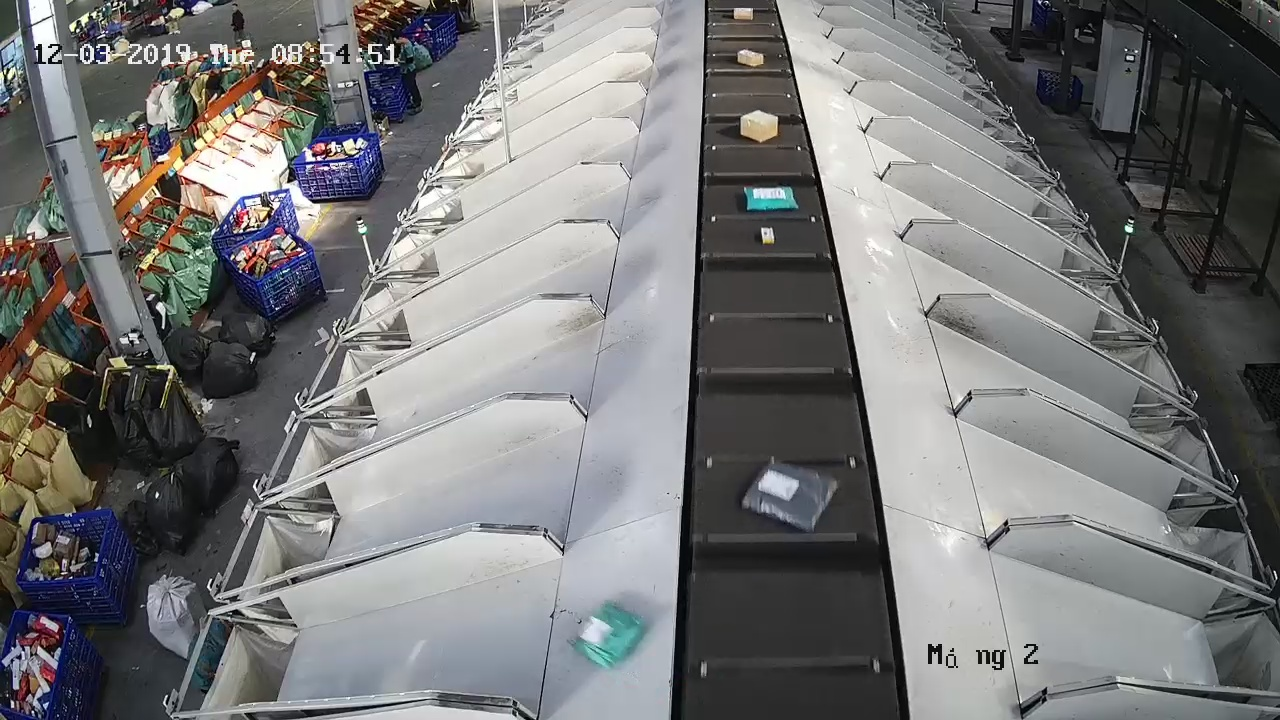parcel: (740, 460, 841, 535), (565, 598, 647, 670), (742, 184, 800, 212), (738, 108, 780, 144), (760, 225, 776, 246)
